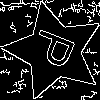P: (29, 26, 86, 74)
